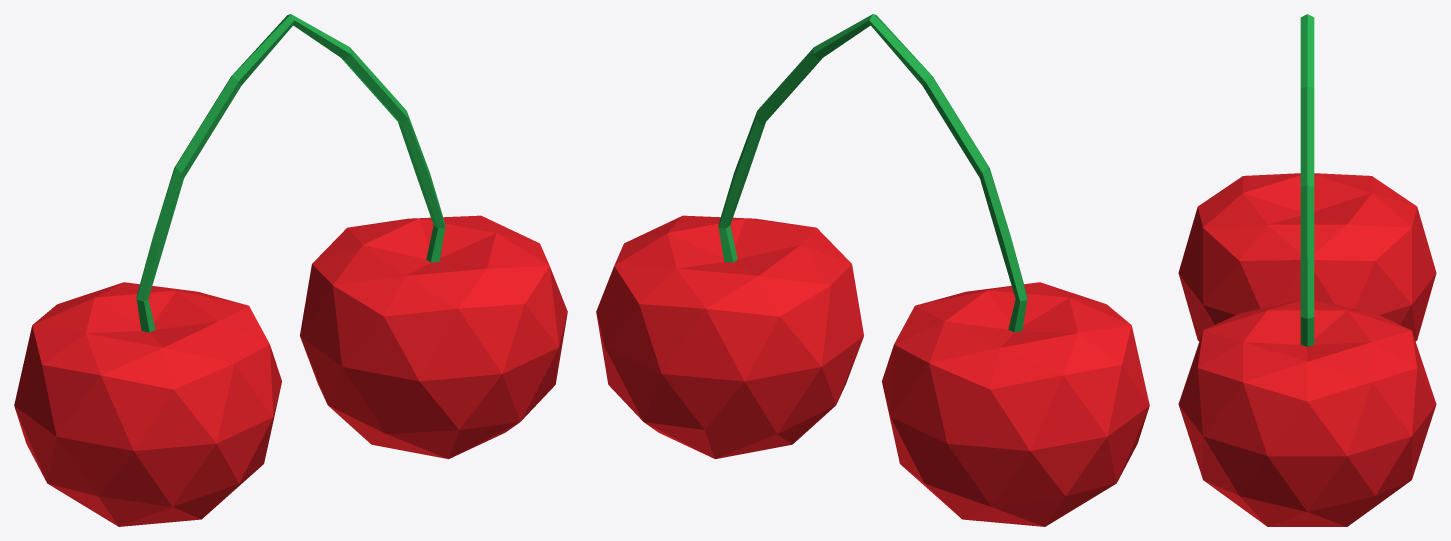
File: cherry.glb
3 views of the same model, side by side, from view 1: azimuth 30°, elevation 25°; view 2: azimuth 150°, elevation 25°; view 3: azimuth 270°, elevation 25° (orthographic). The views are drawn at different scales.
Parts seen in each view (by area): view 1: Icosphere; view 2: Icosphere; view 3: Icosphere.
Boxes of the visible parts, <box> form: Icosphere: <box>14,14,567,526</box>; Icosphere: <box>596,14,1149,526</box>; Icosphere: <box>1178,14,1436,526</box>.
Size of the model in its own units: 2.02 by 1.77 by 0.9355.
1 material, 1 textured.
